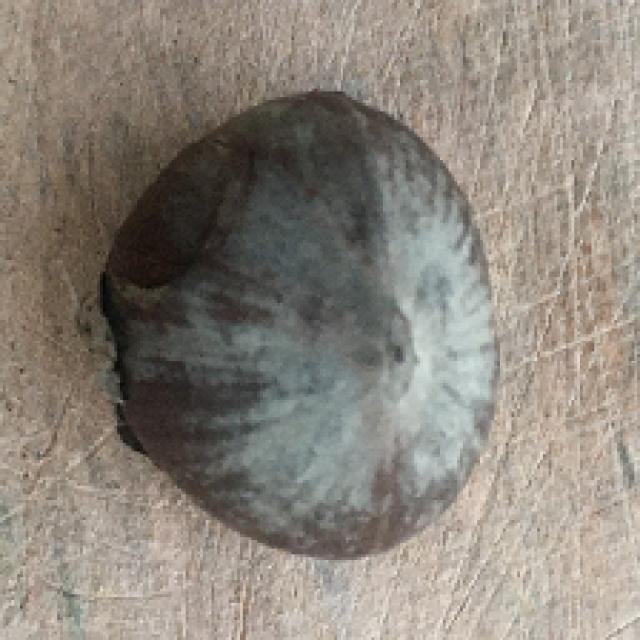damagedHazelnut: (94, 83, 504, 556)
